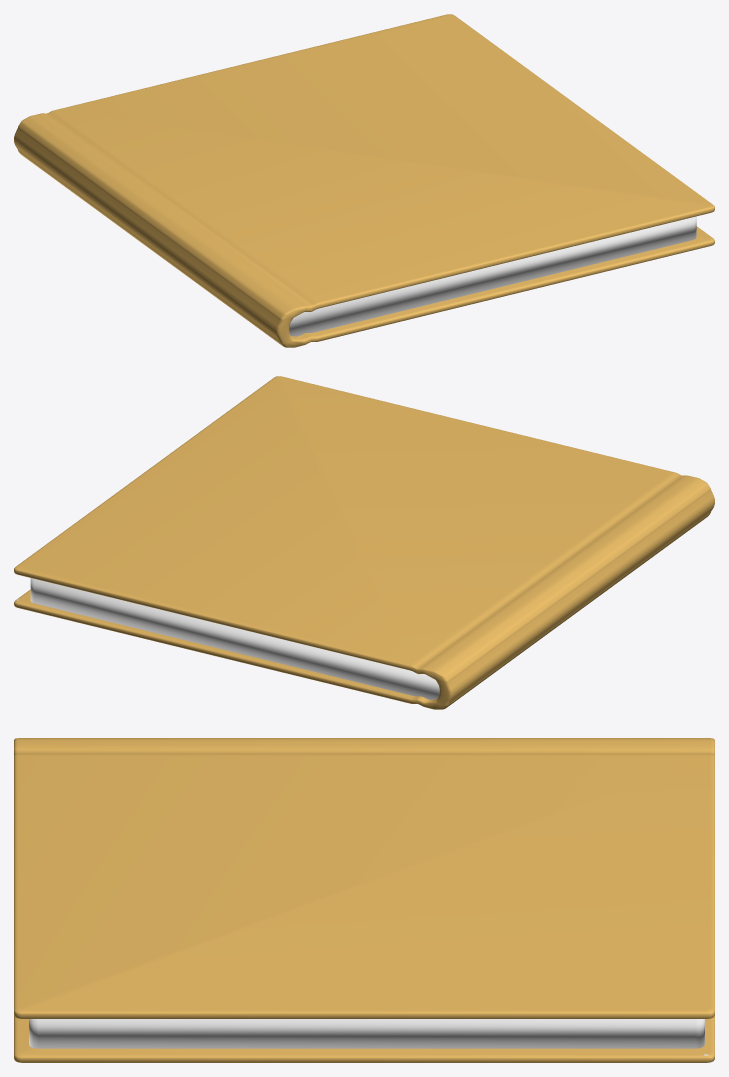
The model's file is book_th.fbx.
3 views of the same model, one above another, from view 1: azimuth 30°, elevation 25°; view 2: azimuth 150°, elevation 25°; view 3: azimuth 270°, elevation 25° (orthographic). The views are drawn at different scales.
Visible parts, largest first — view 1: Cube.016; view 2: Cube.016; view 3: Cube.016.
Part boxes in pixels (x1,y1,x2,y2): Cube.016: (14,14,714,347); Cube.016: (14,376,714,709); Cube.016: (14,738,714,1062).
Size of the model in its own units: 382 by 32.58 by 399.
